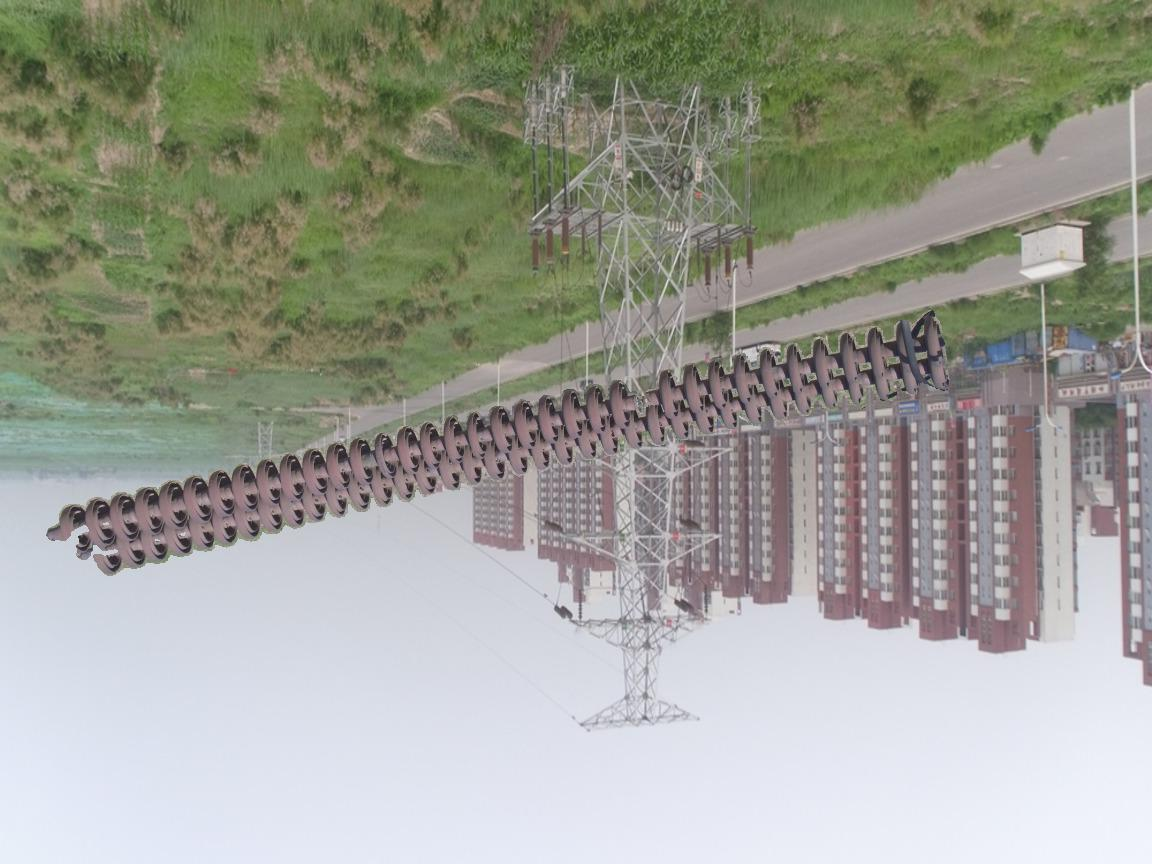insulator: (58, 310, 955, 578)
insulator_stringdrop: (606, 366, 681, 433)
